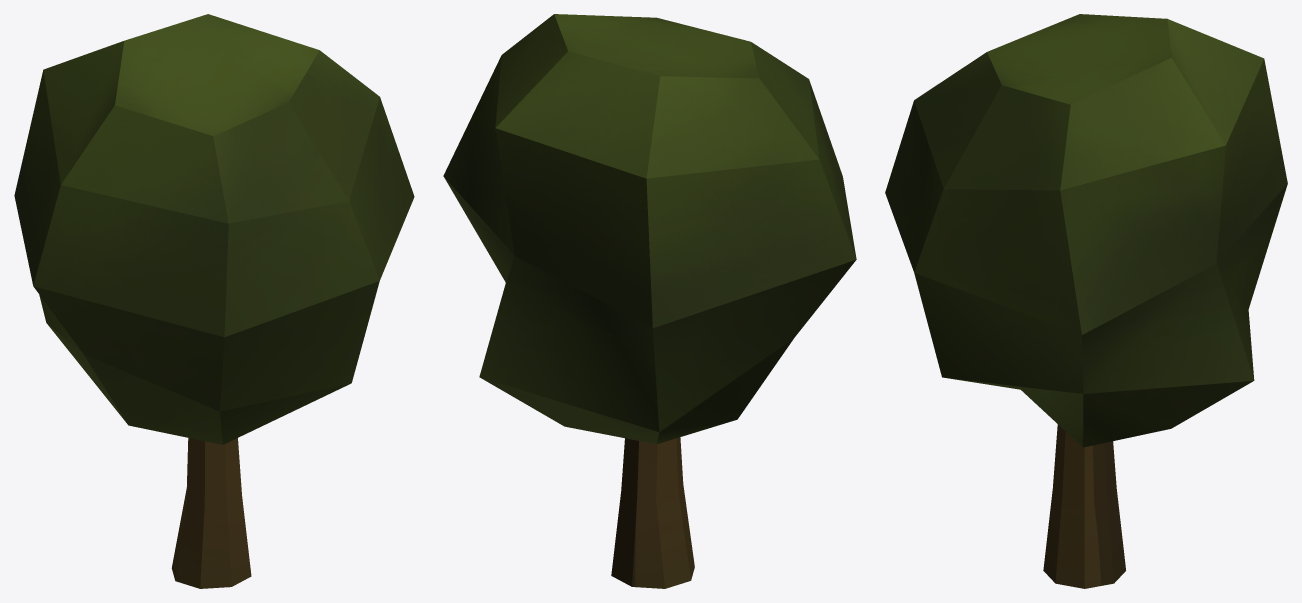
The model's file is tree_02_exp 1.fbx.
3 views of the same model, side by side, from view 1: azimuth 30°, elevation 25°; view 2: azimuth 150°, elevation 25°; view 3: azimuth 270°, elevation 25° (orthographic). The views are drawn at different scales.
Visible parts, largest first — view 1: tree_02; view 2: tree_02; view 3: tree_02.
Boxes of the visible parts, box(x1,y1,x2,y2) form: tree_02: box(14, 14, 414, 588); tree_02: box(443, 14, 856, 588); tree_02: box(885, 14, 1287, 588).
Size of the model in its own units: 11.05 by 14.1 by 9.67.
